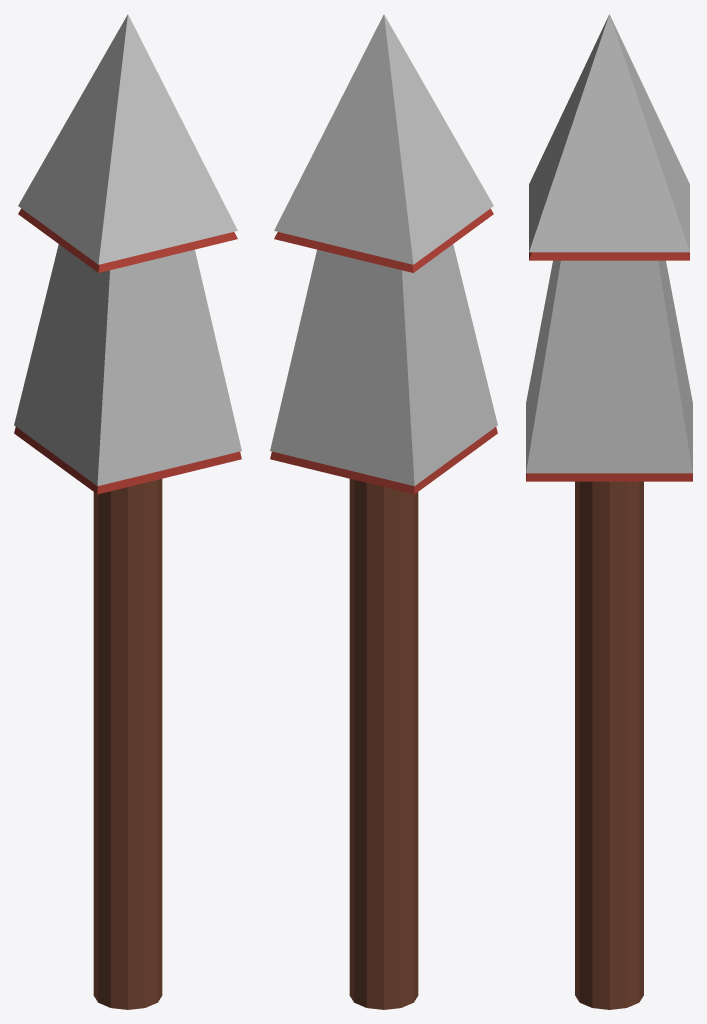
Rendered from Tree_16_winter_red_vc.fbx.
3 views of the same model, side by side, from view 1: azimuth 30°, elevation 25°; view 2: azimuth 150°, elevation 25°; view 3: azimuth 270°, elevation 25° (orthographic).
Visible parts, largest first — view 1: Tree_16_winter_red_vc; view 2: Tree_16_winter_red_vc; view 3: Tree_16_winter_red_vc.
Boxes of the visible parts, bbox=[...] form: Tree_16_winter_red_vc: bbox=[14, 14, 241, 1009]; Tree_16_winter_red_vc: bbox=[270, 14, 497, 1009]; Tree_16_winter_red_vc: bbox=[526, 14, 692, 1009].
Bounding box in the file's own units: 53.67 × 348 × 53.67.
